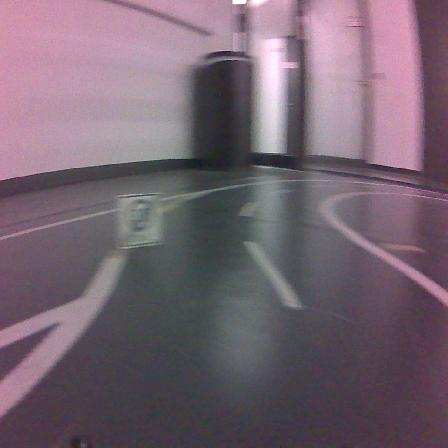30_ZONE_END: (116, 193, 163, 248)
